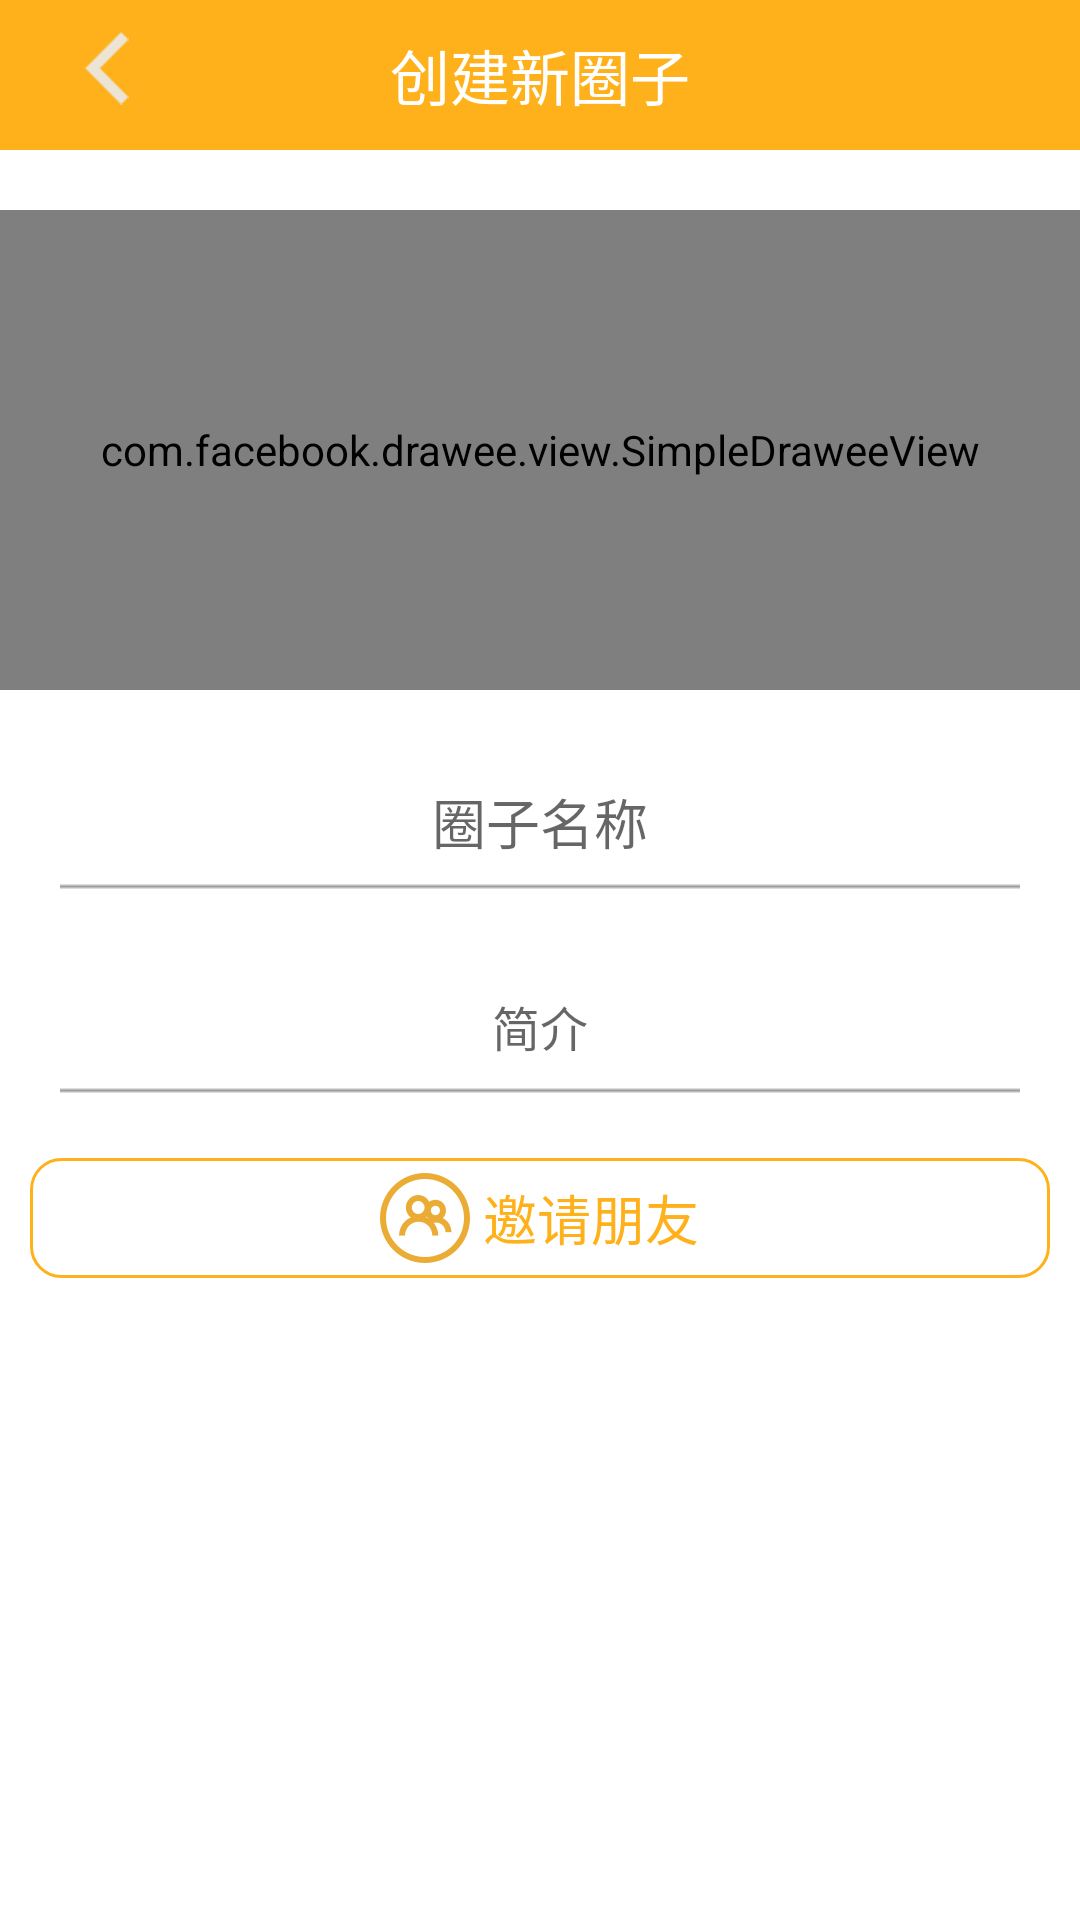

Icons on this 1080 × 1920 Android screen, each with its box as (x1, y1, x2, y2):
back: (85, 32, 129, 105)
member: (380, 1173, 470, 1263)
